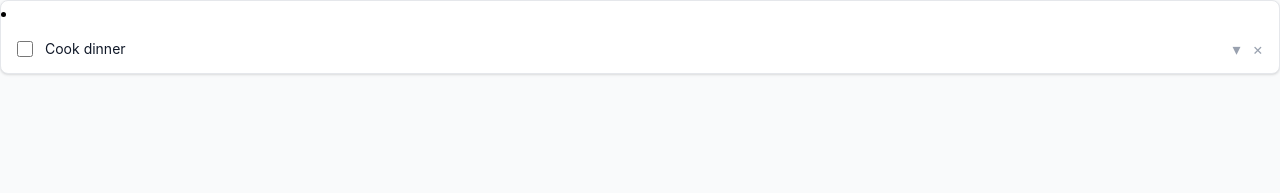
TodoItem › shows the detail panel when the name is clicked
Click the button "Cook dinner" at (85, 48), box x1=45 y1=39 x2=1220 y2=59
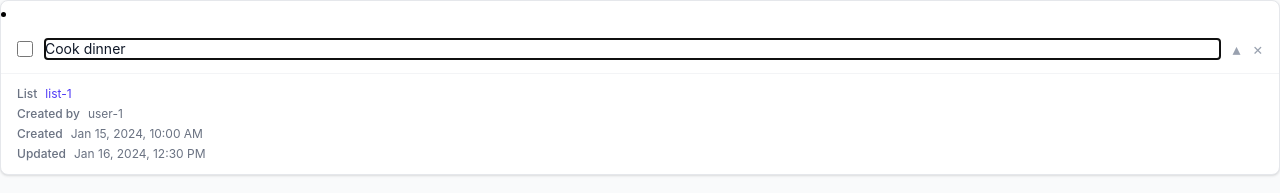
Now the text "Created" is shown, box x1=17 y1=126 x2=63 y2=142
Now the text "Updated" is shown, box x1=17 y1=146 x2=66 y2=162
